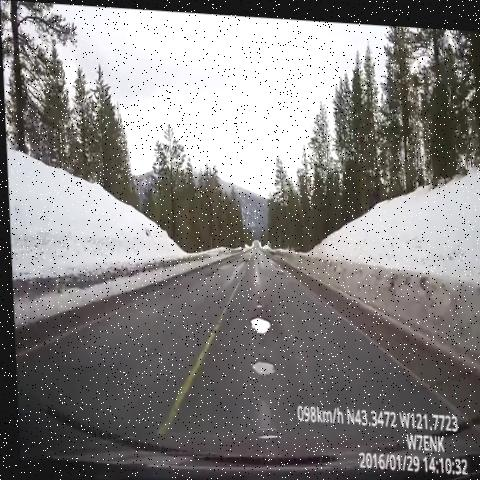pothole: (239, 296, 275, 345), (246, 348, 277, 386)
